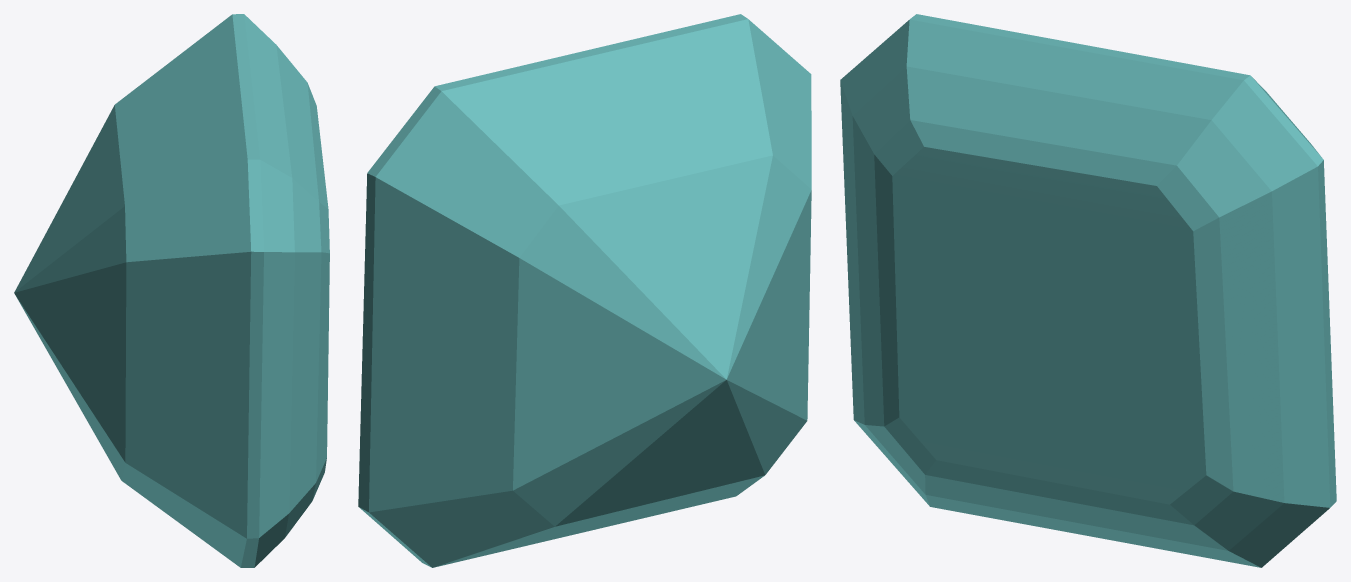
File: BR4_8shapes_Square_Classic_Stone.001 3.glb
The picture shows the model from 3 angles, left to right: view 1: azimuth 30°, elevation 25°; view 2: azimuth 150°, elevation 25°; view 3: azimuth 270°, elevation 25°; orthographic projection. The views are drawn at different scales.
Parts seen in each view (by area): view 1: BR4_8shapes_Square_Classic_Stone.001; view 2: BR4_8shapes_Square_Classic_Stone.001; view 3: BR4_8shapes_Square_Classic_Stone.001.
Boxes of the visible parts, x1=… form: BR4_8shapes_Square_Classic_Stone.001: x1=14, y1=14, x2=329, y2=567; BR4_8shapes_Square_Classic_Stone.001: x1=358, y1=14, x2=811, y2=567; BR4_8shapes_Square_Classic_Stone.001: x1=840, y1=14, x2=1336, y2=567.
Bounding box in the file's own units: 0.3534 × 0.4861 × 0.4399.
